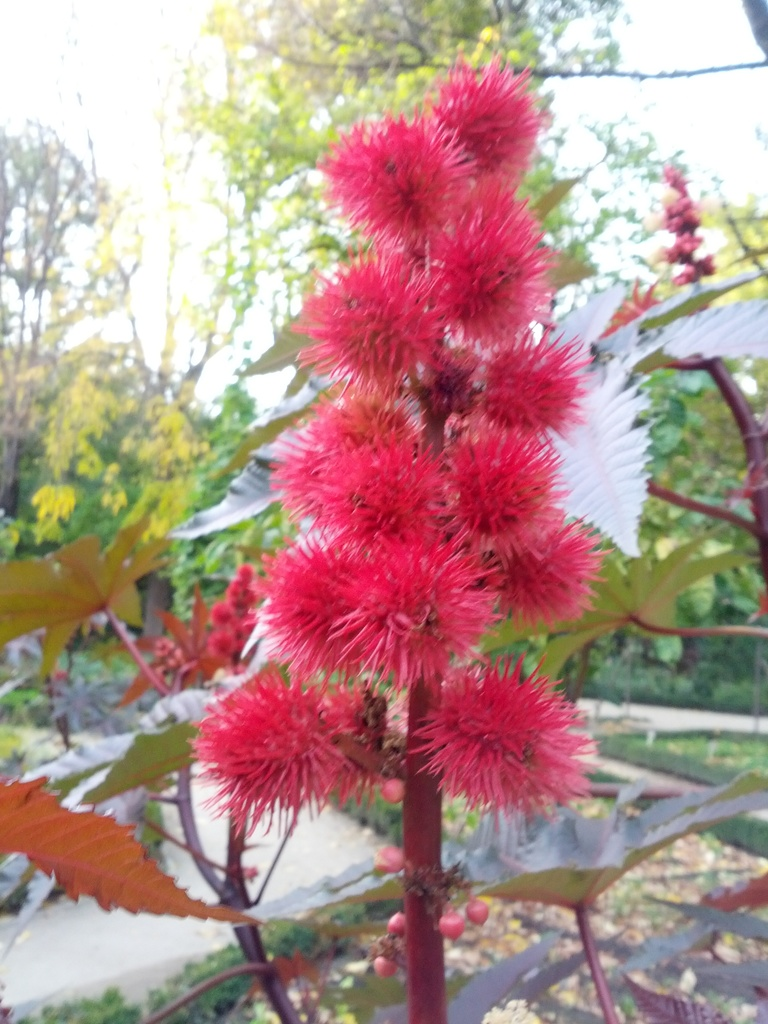Tree: (0, 0, 768, 683)
